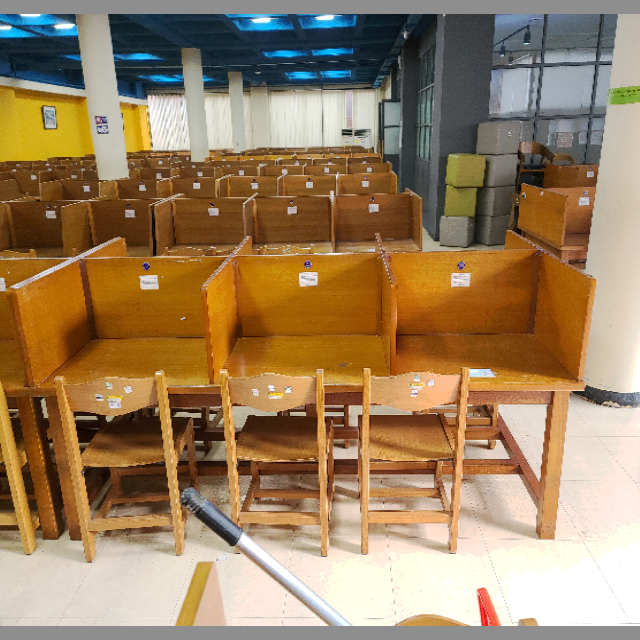empty: (401, 238, 585, 482), (222, 243, 396, 469), (20, 245, 214, 444)
